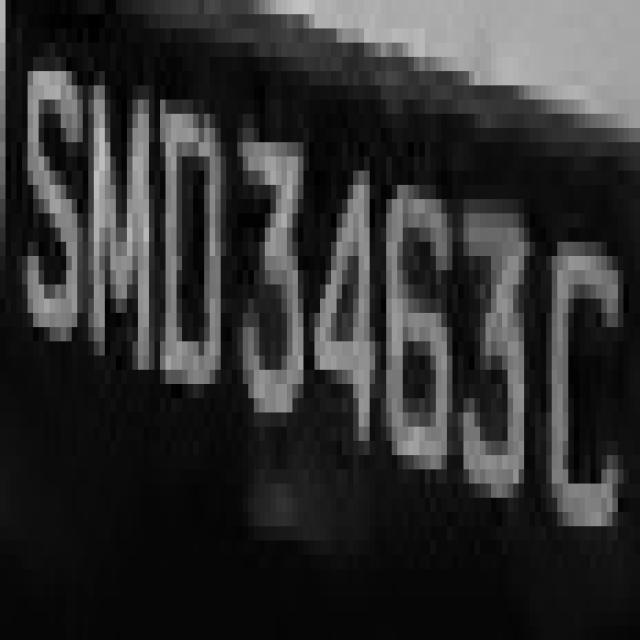3: (447, 128, 541, 526), (232, 85, 303, 455)
4: (298, 114, 381, 484)
6: (381, 142, 464, 512)
C: (546, 185, 629, 583)
D: (160, 42, 237, 484)
M: (77, 29, 160, 412)
S: (5, 28, 94, 384)
